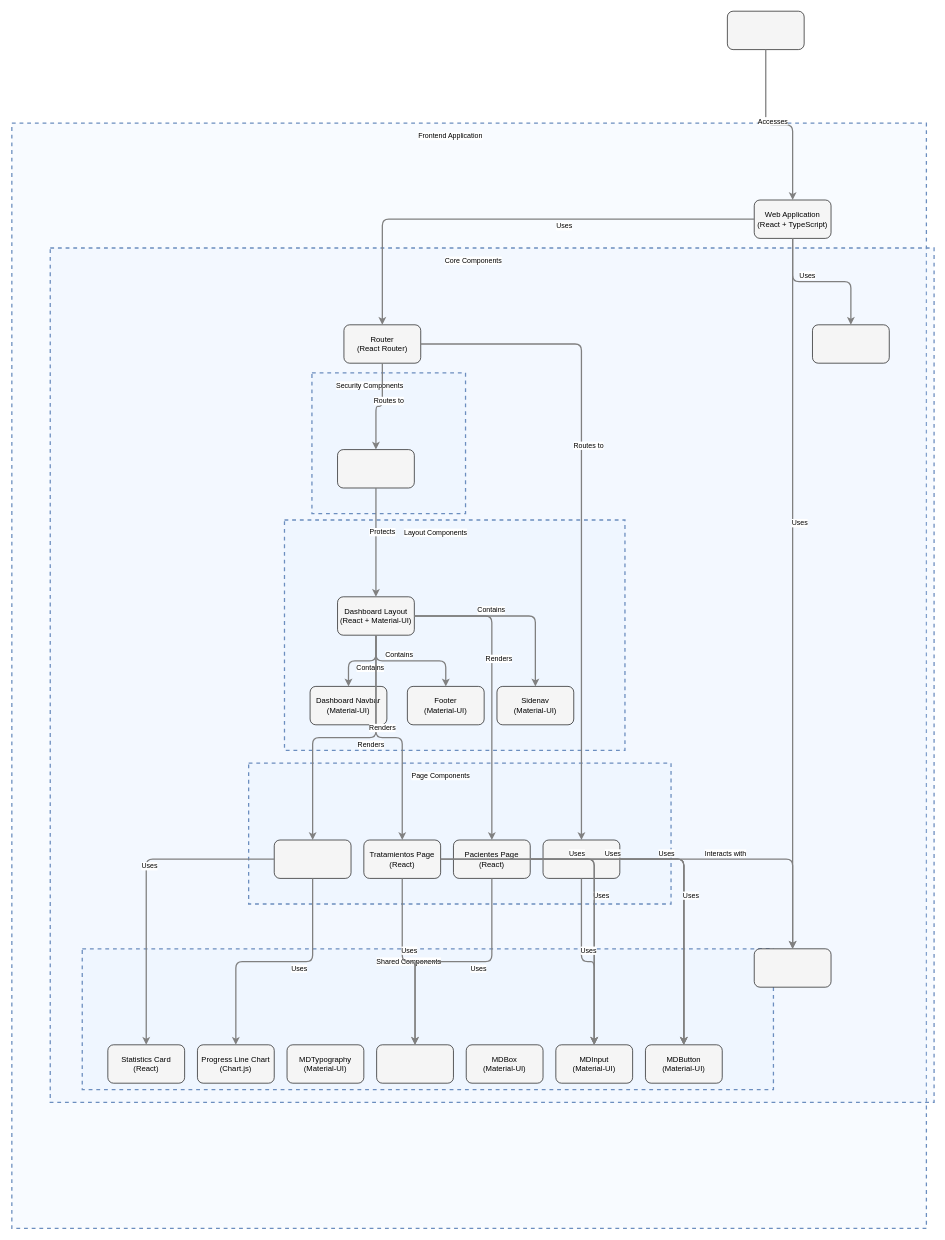
The diagram is 945 pixels wide and 1240 high, and some of its shapes have lost their labels. Here are the shapes that lost their labels. From the top down, the centre of each, then its label:
the point at 765,30: End User
the point at 850,343: Theme Provider (Material-UI)
the point at 375,468: Protected Route (React Router)
the point at 312,858: Dashboard Page (React)
the point at 581,858: Login Page (React)
the point at 792,967: Auth Provider (React Context)
the point at 414,1063: DataTable (React)
